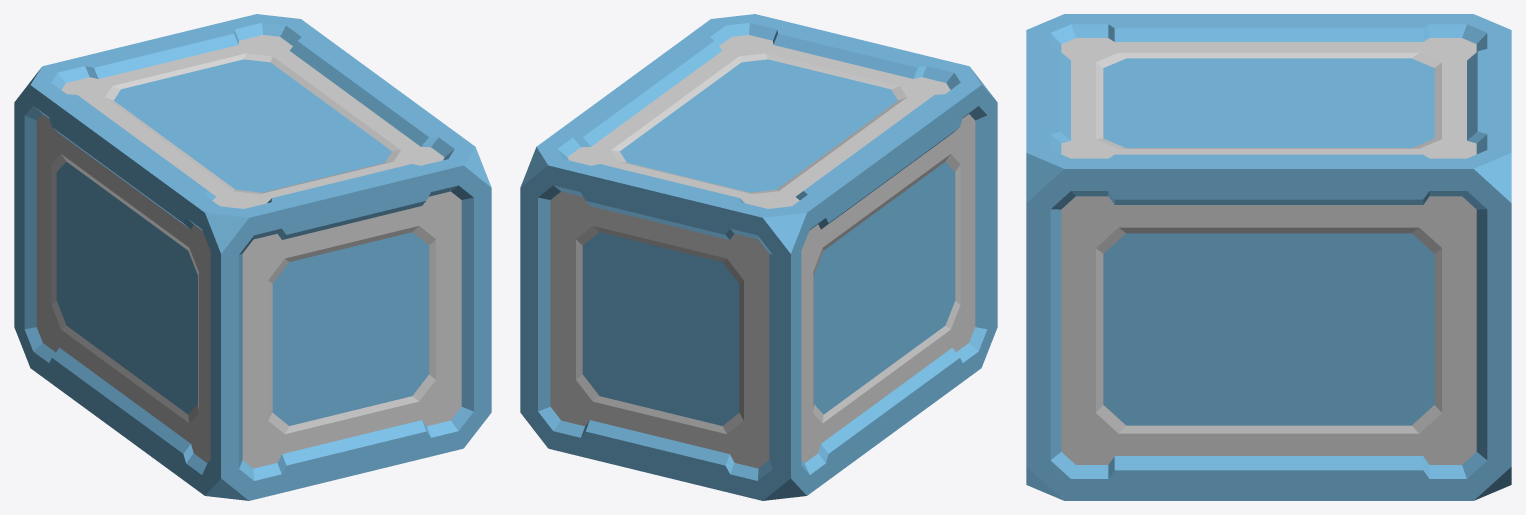
Rendered from crate blue med.fbx.
3 views of the same model, side by side, from view 1: azimuth 30°, elevation 25°; view 2: azimuth 150°, elevation 25°; view 3: azimuth 270°, elevation 25° (orthographic). The views are drawn at different scales.
Visible parts, largest first — view 1: Crate Medium.004; view 2: Crate Medium.004; view 3: Crate Medium.004.
Part boxes in pixels (x1,y1,x2,y2): Crate Medium.004: [14, 14, 491, 500]; Crate Medium.004: [520, 14, 997, 500]; Crate Medium.004: [1026, 14, 1511, 500].
Size of the model in its own units: 75.5 by 75.5 by 100.
